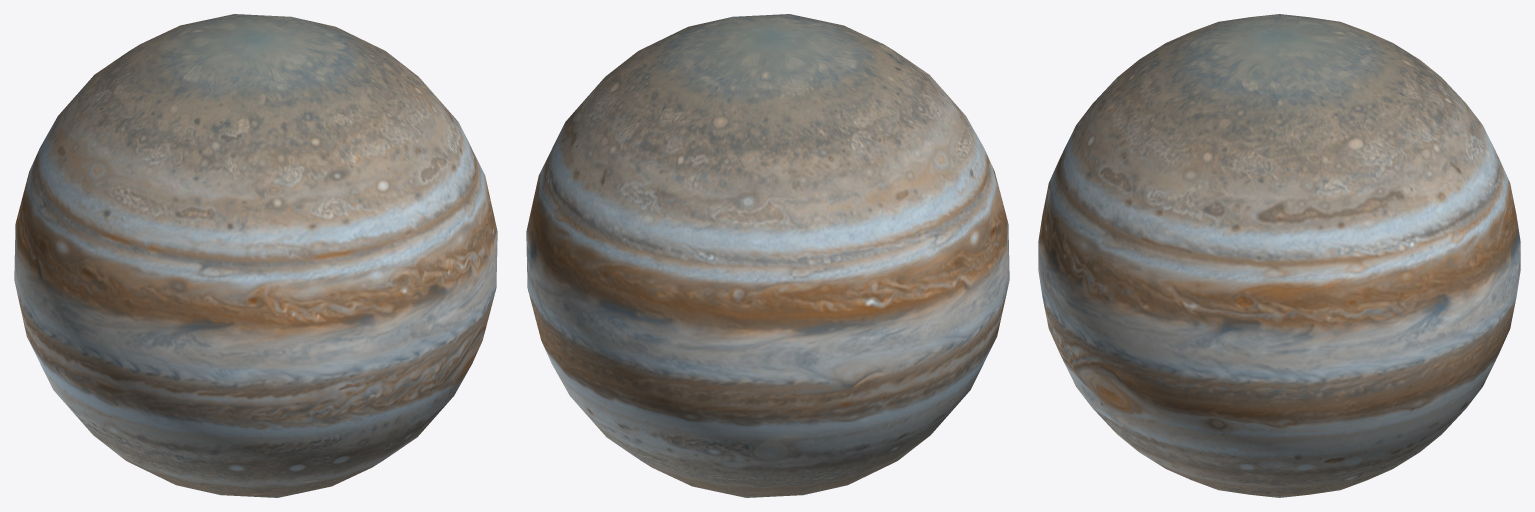
File: Jupiter.fbx
3 renders of one model, left to right at view 1: azimuth 30°, elevation 25°; view 2: azimuth 150°, elevation 25°; view 3: azimuth 270°, elevation 25°, orthographic.
Visible parts, largest first — view 1: LowPoly_Jupiter; view 2: LowPoly_Jupiter; view 3: LowPoly_Jupiter.
Part boxes in pixels (bbox=[...]): LowPoly_Jupiter: bbox=[14, 14, 497, 497]; LowPoly_Jupiter: bbox=[526, 14, 1009, 497]; LowPoly_Jupiter: bbox=[1038, 14, 1520, 497].
Size of the model in its own units: 78.72 by 79.1 by 78.61.
